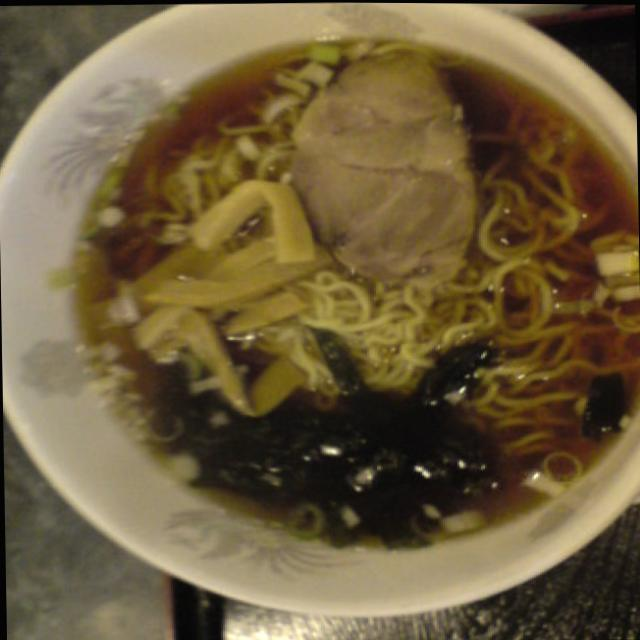面条主食: (0, 0, 640, 551)
